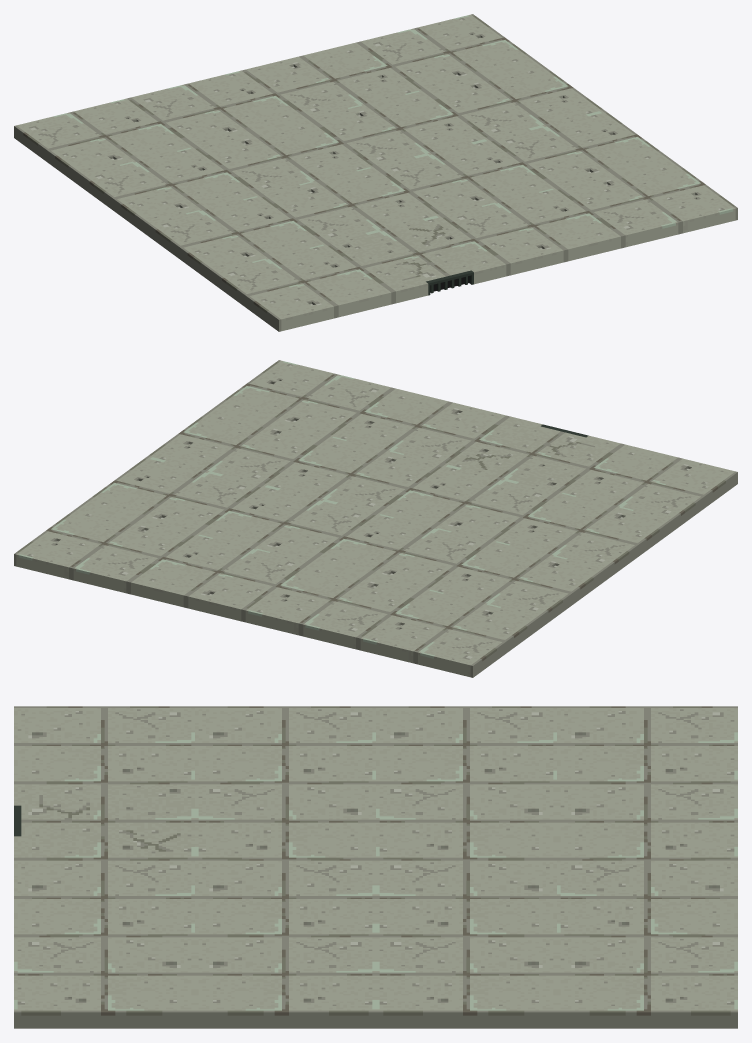
File: VoxelNuke-23-ConcreteGroundTile.obj
The picture shows the model from 3 angles, top to bottom: view 1: azimuth 30°, elevation 25°; view 2: azimuth 150°, elevation 25°; view 3: azimuth 270°, elevation 25°; orthographic projection. The views are drawn at different scales.
Visible parts, largest first — view 1: ConcreteGroundTile; view 2: ConcreteGroundTile; view 3: ConcreteGroundTile.
Boxes of the visible parts, x1,y1,x2,y2 form: ConcreteGroundTile: (14, 14, 737, 331); ConcreteGroundTile: (14, 360, 737, 677); ConcreteGroundTile: (14, 706, 737, 1028).
Size of the model in its own units: 4 by 0.1 by 4.
1 material, 1 textured.
